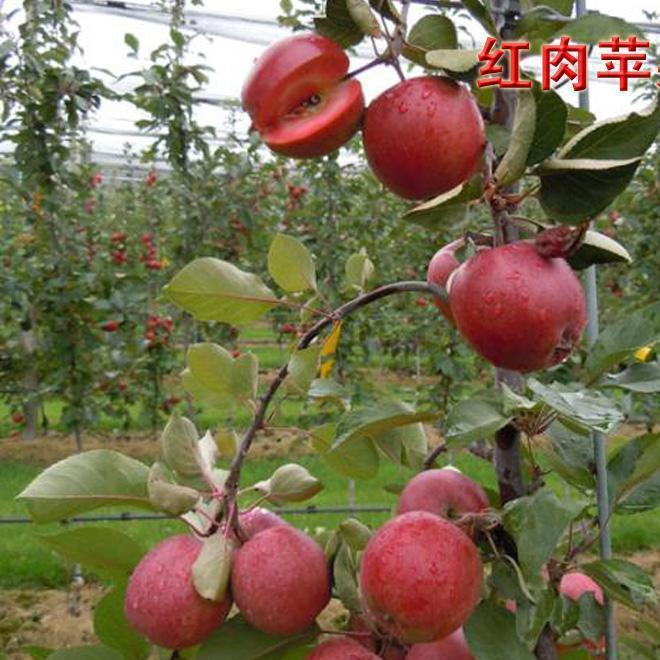apple: (442, 236, 586, 376), (359, 74, 491, 203), (358, 510, 483, 640), (241, 32, 362, 160), (122, 532, 228, 651), (228, 522, 329, 639), (397, 468, 489, 528)
